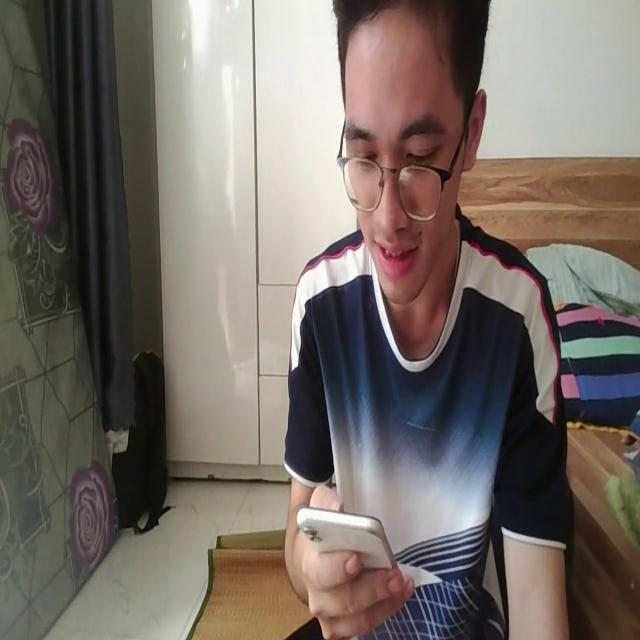phone: (296, 498, 407, 576)
student: (281, 0, 571, 640)
